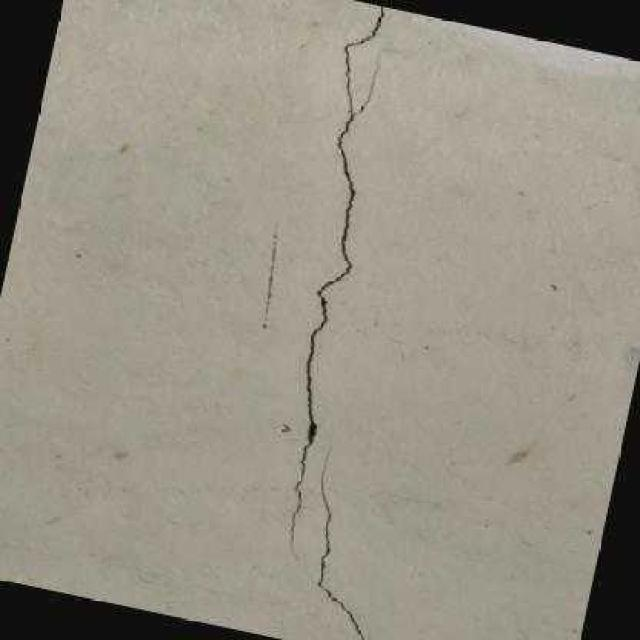D00: (289, 5, 383, 548), (314, 476, 365, 640)
